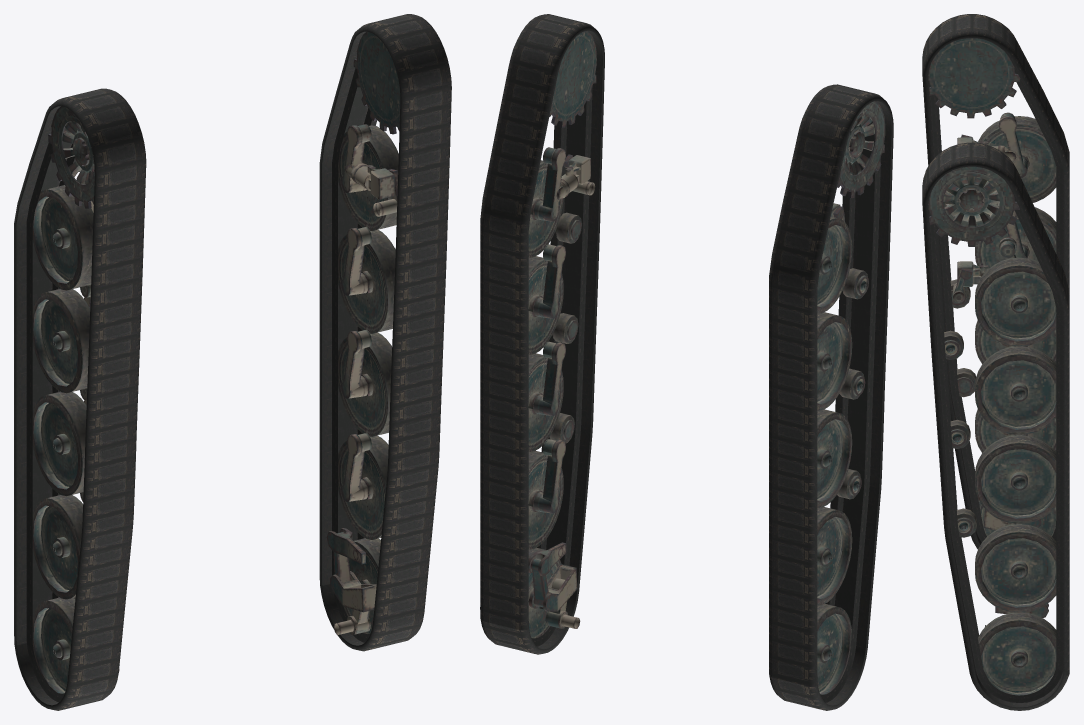
Rendered from Chassis.glb.
3 views of the same model, side by side, from view 1: azimuth 30°, elevation 25°; view 2: azimuth 150°, elevation 25°; view 3: azimuth 270°, elevation 25° (orthographic). The views are drawn at different scales.
Parts seen in each view (by area): view 1: set_1_group_0, set_0_group_0, set_3_group_0, set_2_group_0; view 2: set_0_group_0, set_1_group_0, set_3_group_0, set_2_group_0; view 3: set_3_group_0, set_1_group_0, set_2_group_0, set_0_group_0.
Part boxes in pixels (x1,y1,x2,y2): set_1_group_0: (319, 14, 451, 651); set_0_group_0: (14, 88, 146, 710); set_3_group_0: (326, 31, 400, 635); set_2_group_0: (32, 106, 119, 693); set_0_group_0: (769, 84, 893, 710); set_1_group_0: (480, 14, 604, 654); set_3_group_0: (528, 30, 596, 638); set_2_group_0: (817, 101, 885, 694); set_3_group_0: (928, 166, 1056, 695); set_1_group_0: (922, 142, 1069, 710); set_2_group_0: (928, 38, 1056, 536); set_0_group_0: (922, 14, 1069, 549).
Size of the model in its own units: 2.53 by 4.35 by 1.05.
Materials: 4 (4 with a texture image).
